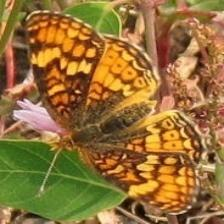butterfly: (27, 12, 210, 214)
